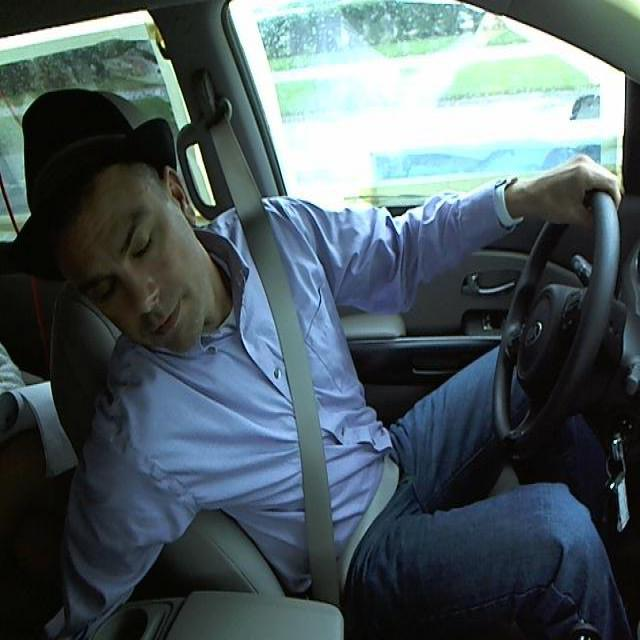seatbelt: (230, 202, 396, 614)
